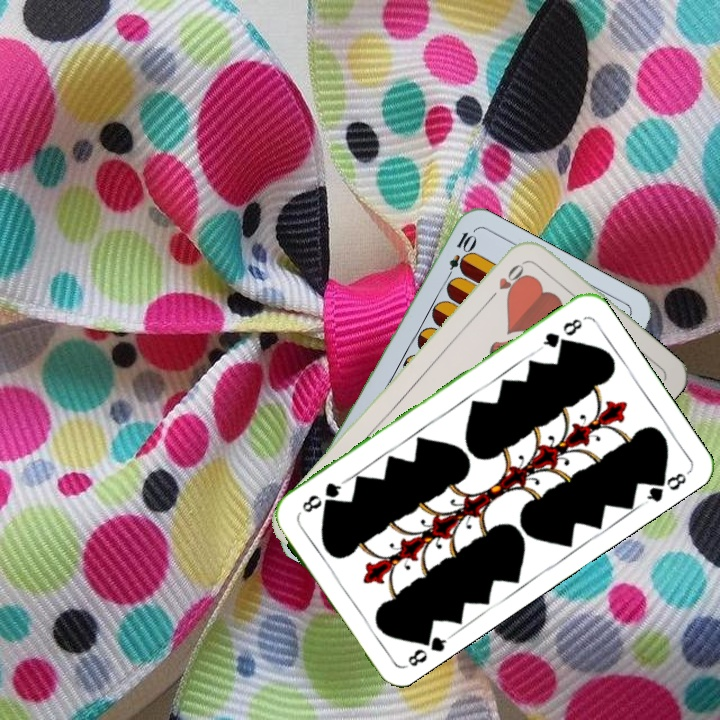E10: (441, 228, 477, 285)
G8: (400, 628, 453, 671), (535, 314, 585, 353)
HO: (483, 257, 529, 305)
